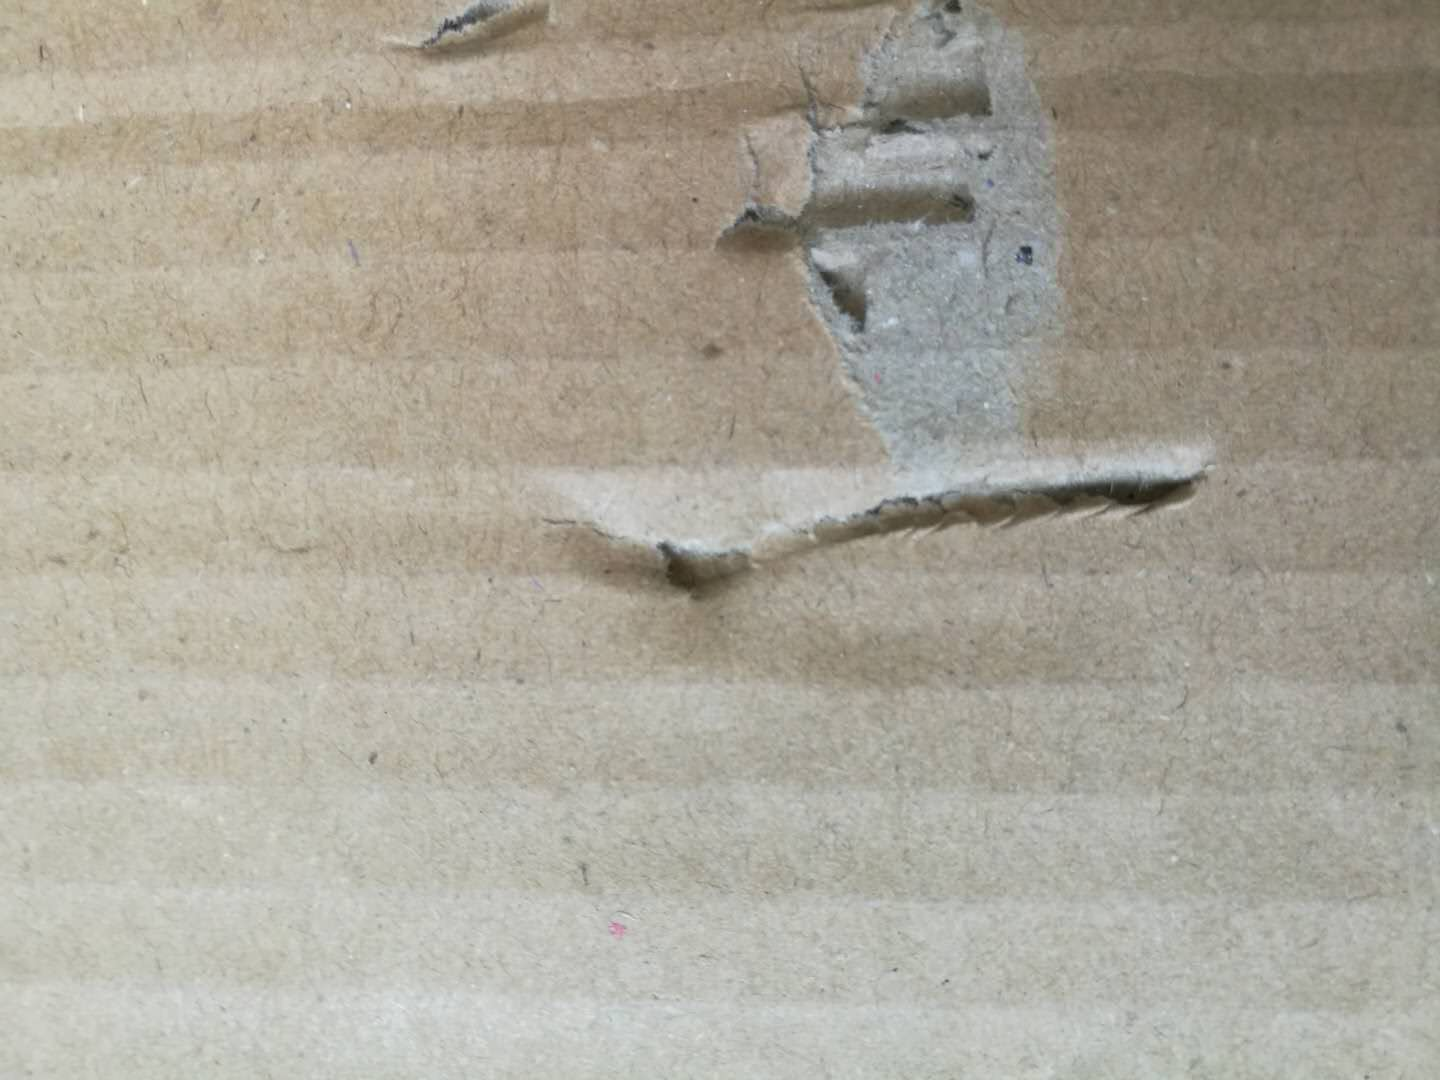defect: (695, 1, 1113, 511), (527, 413, 1250, 626), (378, 3, 578, 78)
